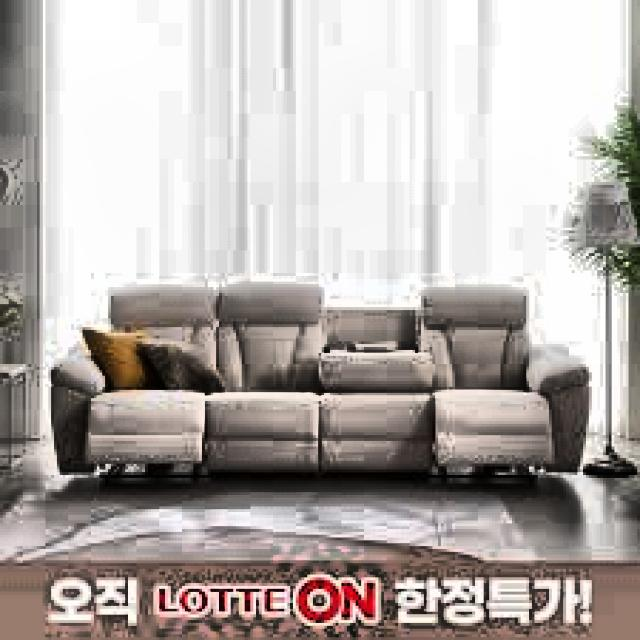sofa: (48, 290, 589, 492)
